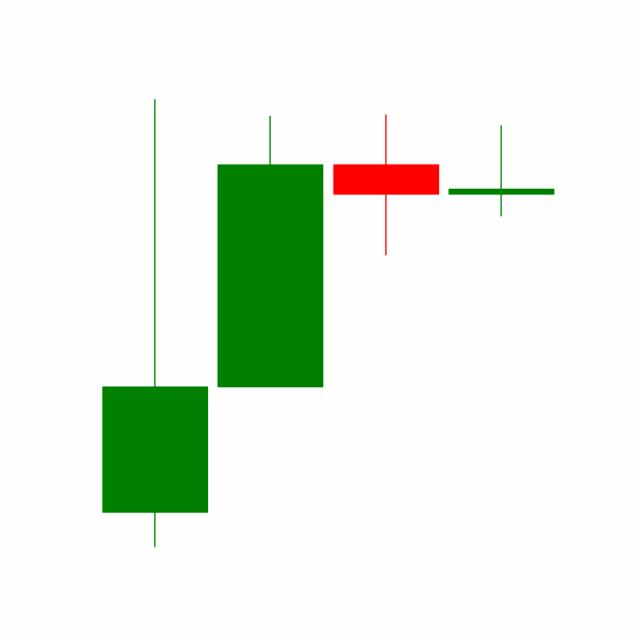Spinning Top: (328, 113, 444, 257)
